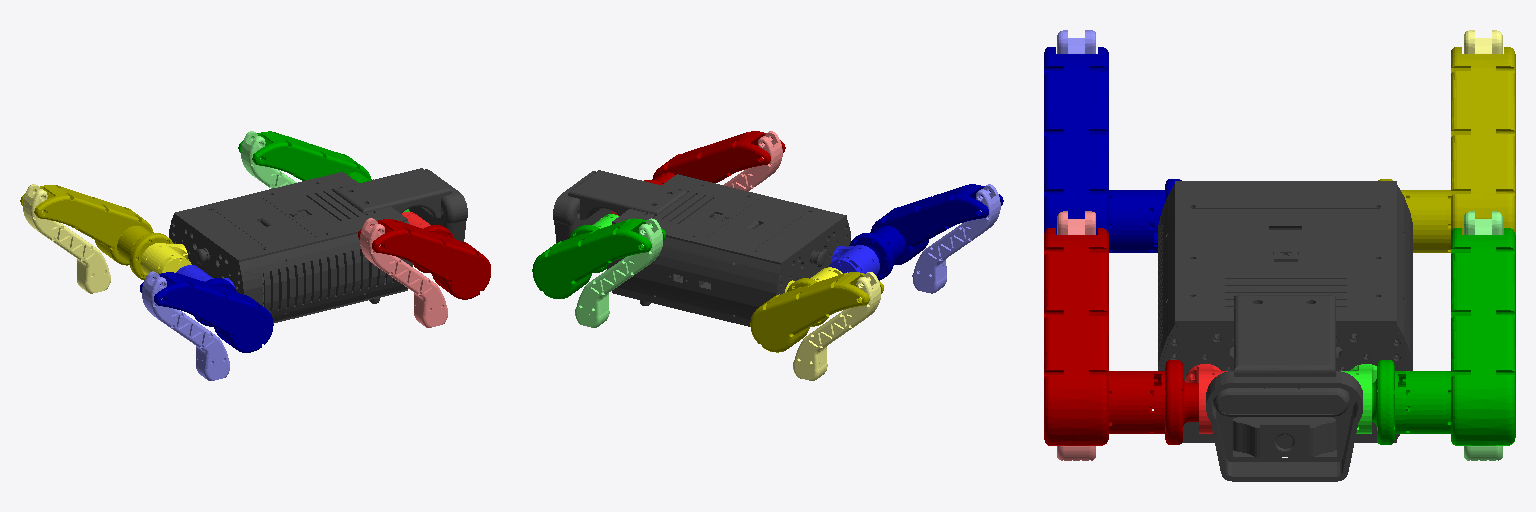
robot.urdf — NXP_Jaguar:
<?xml version="1.0" ?>
<robot name="NXP_Jaguar">
  
  <link name="dummy_link"/>
  
  <!-- </link> -->
  
  <link name="base_link">
    
    <visual>
      
      <origin rpy="0 0 0" xyz="0 0 0"/>
      
      <geometry>
        
        <mesh filename="../meshes/Base_body.STL"/>
        
      </geometry>
      
      <!-- <geometry>
        <box size="0.5 0.3 0.1"/>
      </geometry> -->
      
      <material name="">
        
        <color rgba="0.3 0.3 0.3 1"/>
        
      </material>
      
    </visual>
    
    <collision>
      
      <origin rpy="0 0 0" xyz="0 0 0"/>
      
      <geometry>
        
        <mesh filename="../meshes/Base_body.STL"/>
        
      </geometry>
      
    </collision>
    
    <inertial>
      
      <origin rpy="0 0 0" xyz="0.055662 0.002236 0.087783"/>
      
      <mass value="5.200000"/>
      
      <!-- <mass value="10.200000" /> -->
      
      <inertia ixx="0.033984" ixy="0.000000" ixz="0.000000" iyy="0.101093" iyz="-0.000198" izz="0.117161"/>
      
    </inertial>
    
  </link>
  
  <joint name="dummy_joint" type="fixed">
    
    <origin rpy="0 0 0" xyz="0.0 0.0 0.0"/>
    
    <parent link="dummy_link"/>
    
    <child link="base_link"/>
    
  </joint>
  
  <link name="Fr_coxa_link">
    
    <visual>
      
      <origin rpy="0 0 0" xyz="0 0 0"/>
      
      <geometry>
        
        <mesh filename="../meshes/Fr_coxa_roll.STL"/>
        
      </geometry>
      
      <material name="">
        
        <color rgba="1.0 0.2 0.2 1"/>
        
      </material>
      
    </visual>
    
    <collision>
      
      <origin rpy="0 0 0" xyz="0 0 0"/>
      
      <geometry>
        
        <mesh filename="../meshes/Fr_coxa_roll.STL"/>
        
      </geometry>
      
    </collision>
    
    <inertial>
      
      <origin rpy="0 0 0" xyz=" -0.040750 -0.019750 0.000000"/>
      
      <mass value="0.353000"/>
      
      <inertia ixx="0.000259" ixy="0.000000" ixz="0.000000" iyy="0.000291" iyz="0.000000" izz="0.000359"/>
      
    </inertial>
    
  </link>
  
  <!-- SEBELUMNYA: axis xyz="-1 0 0" , limit lower="-0.40" upper="0.40" -> DIUBAH MIRIP A1 (titik 0 & arah gerak simetris) -->
  
  <joint name="Fr_roll_joint" type="revolute">
    
    <origin rpy="0 0 0" xyz="0.14 -0.0722 0.0755"/>
    
    <parent link="base_link"/>
    
    <child link="Fr_coxa_link"/>
    
    <axis xyz="1 0 0"/>
    
    <!-- <limit lower="1.45" upper="0.4" effort="14" velocity="20" /> -->
    
    <limit effort="14" lower="-0.40" upper="0.40" velocity="20"/>
    
  </joint>
  
  <link name="Fr_thigh_link">
    
    <visual>
      
      <origin rpy="0 0 0" xyz="0 0 0"/>
      
      <geometry>
        
        <mesh filename="../meshes/Fr_hip_pitch.STL"/>
        
      </geometry>
      
      <material name="">
        
        <color rgba="0.7 0.0 0.0 1"/>
        
      </material>
      
    </visual>
    
    <collision>
      
      <origin rpy="0 0 0" xyz="0 0 0"/>
      
      <geometry>
        
        <mesh filename="../meshes/Fr_hip_pitch.STL"/>
        
      </geometry>
      
    </collision>
    
    <inertial>
      
      <origin rpy="0 0 0" xyz="-0.035579 -0.089273 0.026371"/>
      
      <mass value="0.6500000"/>
      
      <inertia ixx="0.002081" ixy="0.000000" ixz="0.000982" iyy="0.002555" iyz="0.000000" izz="0.002809"/>
      
    </inertial>
    
  </link>
  
  <!-- Arah gerak Fr_hip_pitch_joint sudah mirip A1 (0 1 0) -->
  
  <joint name="Fr_hip_pitch_joint" type="revolute">
    
    <origin rpy="0 0 0" xyz="0.053 -0.005 0.000"/>
    
    <parent link="Fr_coxa_link"/>
    
    <child link="Fr_thigh_link"/>
    
    <axis xyz="0 1 0"/>
    
    <limit effort="14" lower="-3.14" upper="0.00" velocity="20"/>
    
  </joint>
  
  <link name="Fr_tibia_link">
    
    <visual>
      
      <origin rpy="0 0 0" xyz="0 0 0"/>
      
      <geometry>
        
        <mesh filename="../meshes/Fr_tibia_pitch.STL"/>
        
      </geometry>
      
      <material name="">
        
        <color rgba="1.0 0.6 0.6 1"/>
        
      </material>
      
    </visual>
    
    <collision>
      <origin rpy="0 0.55 0" xyz="0.04 -0.0175 -0.06"/>
      <geometry>
        <box size="0.02 0.02 0.12"/>
      </geometry>
    </collision>
    
    <inertial>
      
      <origin rpy="0 0 0" xyz="0.060866 -0.017421 -0.080173"/>
      
      <mass value="0.1800000"/>
      
      <inertia ixx="0.000451" ixy="0.000000" ixz="0.000331" iyy="0.000726" iyz="0.000000" izz="0.000309"/>
      
    </inertial>
    
  </link>
  
  <!-- Arah gerak Fr_knee_joint sudah mirip A1 (0 1 0) -->
  
  <joint name="Fr_knee_joint" type="revolute">
    
    <origin rpy="0 0 0" xyz="-0.157 -0.0935 0.088"/>
    
    <parent link="Fr_thigh_link"/>
    
    <child link="Fr_tibia_link"/>
    
    <axis xyz="0 1 0"/>
    
    <limit effort="14" lower="-0.10" upper="2.80" velocity="20"/>
    
  </joint>
  
  <link name="Fl_coxa_link">
    
    <visual>
      
      <origin rpy="0 0 0" xyz="0 0 0"/>
      
      <geometry>
        
        <mesh filename="../meshes/Fl_coxa_roll.STL"/>
        
      </geometry>
      
      <material name="">
        
        <color rgba="0.2 1.0 0.2 1"/>
        
      </material>
      
    </visual>
    
    <collision>
      
      <origin rpy="0 0 0" xyz="0 0 0"/>
      
      <geometry>
        
        <mesh filename="../meshes/Fl_coxa_roll.STL"/>
        
      </geometry>
      
    </collision>
    
    <inertial>
      
      <origin rpy="0 0 0" xyz=" -0.040750 -0.019750 0.000000"/>
      
      <mass value="0.353000"/>
      
      <inertia ixx="0.000200" ixy="0.000000" ixz="0.000000" iyy="0.000275" iyz="0.000000" izz="0.000309"/>
      
    </inertial>
    
  </link>
  
  <!-- SEBELUMNYA: axis xyz="-1 0 0" , limit lower="-0.40" upper="0.40" -> DIUBAH MIRIP A1 (titik 0 & arah gerak simetris) -->
  
  <joint name="Fl_roll_joint" type="revolute">
    
    <origin rpy="0 0 0" xyz="0.14 0.0722 0.0755"/>
    
    <parent link="base_link"/>
    
    <child link="Fl_coxa_link"/>
    
    <axis xyz="1 0 0"/>
    
    <!-- <limit lower="1.45" upper="0.4" effort="14" velocity="20" /> -->
    
    <limit effort="14" lower="-0.40" upper="0.40" velocity="20"/>
    
  </joint>
  
  <link name="Fl_thigh_link">
    
    <visual>
      
      <origin rpy="0 0 0" xyz="0 0 0"/>
      
      <geometry>
        
        <mesh filename="../meshes/Fl_hip_pitch.STL"/>
        
      </geometry>
      
      <material name="">
        
        <color rgba="0.0 0.7 0.0 1"/>
        
      </material>
      
    </visual>
    
    <collision>
      
      <origin rpy="0 0 0" xyz="0 0 0"/>
      
      <geometry>
        
        <mesh filename="../meshes/Fl_hip_pitch.STL"/>
        
      </geometry>
      
    </collision>
    
    <inertial>
      
      <origin rpy="0 0 0" xyz="-0.035334 0.088860 0.026193"/>
      
      <mass value="0.6500000"/>
      
      <inertia ixx="0.002061" ixy="0.000000" ixz="0.000982" iyy="0.002547" iyz="0.000000" izz="0.002786"/>
      
    </inertial>
    
  </link>
  
  <!-- SEBELUMNYA: axis xyz="0 -1 0" , limit lower="-3.14" upper="0.00" -> DIUBAH MIRIP A1 (titik 0 & arah gerak simetris) -->
  
  <joint name="Fl_hip_pitch_joint" type="revolute">
    
    <origin rpy="0 0 0" xyz="0.053 -0.005 0.000"/>
    
    <parent link="Fl_coxa_link"/>
    
    <child link="Fl_thigh_link"/>
    
    <axis xyz="0 1 0"/>
    
    <limit effort="14" lower="-3.14" upper="0.00" velocity="20"/>
    
  </joint>
  
  <link name="Fl_tibia_link">
    
    <visual>
      
      <origin rpy="0 0 0" xyz="0 0 0"/>
      
      <geometry>
        
        <mesh filename="../meshes/Fl_tibia_pitch.STL"/>
        
      </geometry>
      
      <material name="">
        
        <color rgba="0.6 1.0 0.6 1"/>
        
      </material>
      
    </visual>
    
    <collision>
      <origin rpy="0 0.55 0" xyz="0.04 0.0175 -0.06"/>
      <geometry>
        <box size="0.02 0.02 0.12"/>
      </geometry>
    </collision>
    
    <inertial>
      
      <origin rpy="0 0 0" xyz="0.060954 0.017516 -0.080316"/>
      
      <mass value="0.1800000"/>
      
      <inertia ixx="0.000450" ixy="0.000000" ixz="0.000331" iyy="0.000726" iyz="0.000000" izz="0.000309"/>
      
    </inertial>
    
  </link>
  
  <!-- SEBELUMNYA: axis xyz="0 -1 0" , limit lower="-2.80" upper="0.10" -> DIUBAH MIRIP A1 (titik 0 & arah gerak simetris) -->
  
  <joint name="Fl_knee_joint" type="revolute">
    
    <origin rpy="0 0 0" xyz="-0.157 0.0935 0.088"/>
    
    <parent link="Fl_thigh_link"/>
    
    <child link="Fl_tibia_link"/>
    
    <axis xyz="0 1 0"/>
    
    <limit effort="14" lower="-0.10" upper="2.80" velocity="20"/>
    
  </joint>
  
  <link name="Br_coxa_link">
    
    <visual>
      
      <origin rpy="0 0 0" xyz="0 0 0"/>
      
      <geometry>
        
        <mesh filename="../meshes/Br_coxa_roll.STL"/>
        
      </geometry>
      
      <material name="">
        
        <color rgba="0.2 0.2 1.0 1"/>
        
      </material>
      
    </visual>
    
    <collision>
      
      <origin rpy="0 0 0" xyz="0 0 0"/>
      
      <geometry>
        
        <mesh filename="../meshes/Br_coxa_roll.STL"/>
        
      </geometry>
      
    </collision>
    
    <inertial>
      
      <origin rpy="0 0 0" xyz="-0.042480 0.013241 -0.000079"/>
      
      <mass value="0.353000"/>
      
      <inertia ixx="0.000175" ixy="0.000000" ixz="0.000000" iyy="0.000302" iyz="0.000000" izz="0.000311"/>
      
    </inertial>
    
  </link>
  
  <!-- SEBELUMNYA: axis xyz="-1 0 0" , limit lower="-0.40" upper="0.40" -> DIUBAH MIRIP A1 (titik 0 & arah gerak simetris) -->
  
  <joint name="Br_roll_joint" type="revolute">
    
    <origin rpy="0 0 0" xyz="-0.14 -0.0722 0.0755"/>
    
    <parent link="base_link"/>
    
    <child link="Br_coxa_link"/>
    
    <axis xyz="1 0 0"/>
    
    <!-- <limit lower="1.45" upper="0.4" effort="14" velocity="20" /> -->
    
    <limit effort="14" lower="-0.40" upper="0.40" velocity="20"/>
    
  </joint>
  
  <link name="Br_thigh_link">
    
    <visual>
      
      <origin rpy="0 0 0" xyz="0 0 0"/>
      
      <geometry>
        
        <mesh filename="../meshes/Br_hip_pitch.STL"/>
        
      </geometry>
      
      <material name="">
        
        <color rgba="0.0 0.0 0.7 1"/>
        
      </material>
      
    </visual>
    
    <collision>
      
      <origin rpy="0 0 0" xyz="0 0 0"/>
      
      <geometry>
        
        <mesh filename="../meshes/Br_hip_pitch.STL"/>
        
      </geometry>
      
    </collision>
    
    <inertial>
      
      <origin rpy="0 0 0" xyz="-0.035579 -0.089273 0.026371"/>
      
      <mass value="0.6500000"/>
      
      <inertia ixx="0.002070" ixy="0.000000" ixz="0.000977" iyy="0.002545" iyz="0.000000" izz="0.002795"/>
      
    </inertial>
    
  </link>
  
  <!-- Arah gerak Br_hip_pitch_joint sudah mirip A1 (0 1 0) -->
  
  <joint name="Br_hip_pitch_joint" type="revolute">
    
    <origin rpy="0 0 0" xyz="-0.053 -0.005 0.000"/>
    
    <parent link="Br_coxa_link"/>
    
    <child link="Br_thigh_link"/>
    
    <axis xyz="0 1 0"/>
    
    <limit effort="14" lower="-3.14" upper="0.00" velocity="20"/>
    
  </joint>
  
  <link name="Br_tibia_link">
    
    <visual>
      
      <origin rpy="0 0 0" xyz="0 0 0"/>
      
      <geometry>
        
        <mesh filename="../meshes/Br_tibia_pitch.STL"/>
        
      </geometry>
      
      <material name="">
        
        <color rgba="0.6 0.6 1.0 1"/>
        
      </material>
      
    </visual>
    
    <collision>
      <origin rpy="0 0.55 0" xyz="0.04 -0.0175 -0.06"/>
      <geometry>
        <box size="0.02 0.02 0.12"/>
      </geometry>
    </collision>
    
    <inertial>
      
      <origin rpy="0 0 0" xyz="0.060866 -0.017421 -0.080173"/>
      
      <mass value="0.1800000"/>
      
      <inertia ixx="0.000451" ixy="0.000000" ixz="0.000331" iyy="0.000726" iyz="0.000000" izz="0.000309"/>
      
    </inertial>
    
  </link>
  
  <!-- Arah gerak Br_knee_joint sudah mirip A1 (0 1 0) -->
  
  <joint name="Br_knee_joint" type="revolute">
    
    <origin rpy="0 0 0" xyz="-0.157 -0.0935 0.088"/>
    
    <parent link="Br_thigh_link"/>
    
    <child link="Br_tibia_link"/>
    
    <axis xyz="0 1 0"/>
    
    <limit effort="14" lower="-0.10" upper="2.80" velocity="20"/>
    
  </joint>
  
  <link name="Bl_coxa_link">
    
    <visual>
      
      <origin rpy="0 0 0" xyz="0 0 0"/>
      
      <geometry>
        
        <mesh filename="../meshes/Bl_coxa_roll.STL"/>
        
      </geometry>
      
      <material name="">
        
        <color rgba="1.0 1.0 0.2 1"/>
        
      </material>
      
    </visual>
    
    <collision>
      
      <origin rpy="0 0 0" xyz="0 0 0"/>
      
      <geometry>
        
        <mesh filename="../meshes/Bl_coxa_roll.STL"/>
        
      </geometry>
      
    </collision>
    
    <inertial>
      
      <origin rpy="0 0 0" xyz="-0.042207 -0.013241 0.000079"/>
      
      <mass value="0.353000"/>
      
      <inertia ixx="0.000200" ixy="0.000000" ixz="0.000000" iyy="0.000275" iyz="0.000000" izz="0.000309"/>
      
    </inertial>
    
  </link>
  
  <!-- SEBELUMNYA: axis xyz="-1 0 0" , limit lower="-0.40" upper="0.40" -> DIUBAH MIRIP A1 (titik 0 & arah gerak simetris) -->
  
  <joint name="Bl_roll_joint" type="revolute">
    
    <origin rpy="0 0 0" xyz="-0.14 0.0722 0.0755"/>
    
    <parent link="base_link"/>
    
    <child link="Bl_coxa_link"/>
    
    <axis xyz="1 0 0"/>
    
    <!-- <limit lower="1.45" upper="0.4" effort="14" velocity="20" /> -->
    
    <limit effort="14" lower="-0.40" upper="0.40" velocity="20"/>
    
  </joint>
  
  <link name="Bl_thigh_link">
    
    <visual>
      
      <origin rpy="0 0 0" xyz="0 0 0"/>
      
      <geometry>
        
        <mesh filename="../meshes/Bl_hip_pitch.STL"/>
        
      </geometry>
      
      <material name="">
        
        <color rgba="0.7 0.7 0.0 1"/>
        
      </material>
      
    </visual>
    
    <collision>
      
      <origin rpy="0 0 0" xyz="0 0 0"/>
      
      <geometry>
        
        <mesh filename="../meshes/Bl_hip_pitch.STL"/>
        
      </geometry>
      
    </collision>
    
    <inertial>
      
      <origin rpy="0 0 0" xyz="-0.035334 0.088860 0.026193"/>
      
      <mass value="0.6500000"/>
      
      <inertia ixx="0.002061" ixy="0.000000" ixz="0.000982" iyy="0.002547" iyz="0.000000" izz="0.002786"/>
      
    </inertial>
    
  </link>
  
  <!-- SEBELUMNYA: axis xyz="0 -1 0" , limit lower="-3.14" upper="0.00" -> DIUBAH MIRIP A1 (titik 0 & arah gerak simetris) -->
  
  <joint name="Bl_hip_pitch_joint" type="revolute">
    
    <origin rpy="0 0 0" xyz="-0.053 -0.005 0.000"/>
    
    <parent link="Bl_coxa_link"/>
    
    <child link="Bl_thigh_link"/>
    
    <axis xyz="0 1 0"/>
    
    <limit effort="14" lower="-3.14" upper="0.00" velocity="20"/>
    
  </joint>
  
  <link name="Bl_tibia_link">
    
    <visual>
      
      <origin rpy="0 0 0" xyz="0 0 0"/>
      
      <geometry>
        
        <mesh filename="../meshes/Bl_tibia_pitch.STL"/>
        
      </geometry>
      
      <material name="">
        
        <color rgba="1.0 1.0 0.6 1"/>
        
      </material>
      
    </visual>
    
    <collision>
      <origin rpy="0 0.55 0" xyz="0.04 0.0175 -0.06"/>
      <geometry>
        <box size="0.02 0.02 0.12"/>
      </geometry>
    </collision>
    
    <inertial>
      
      <origin rpy="0 0 0" xyz="0.060954 0.017516 -0.080316"/>
      
      <mass value="0.1800000"/>
      
      <inertia ixx="0.000450" ixy="0.000000" ixz="0.000331" iyy="0.000726" iyz="0.000000" izz="0.000309"/>
      
    </inertial>
    
  </link>
  
  <!-- SEBELUMNYA: axis xyz="0 -1 0" , limit lower="-2.80" upper="0.10" -> DIUBAH MIRIP A1 (titik 0 & arah gerak simetris) -->
  
  <joint name="Bl_knee_joint" type="revolute">
    
    <origin rpy="0 0 0" xyz="-0.157 0.0935 0.088"/>
    
    <parent link="Bl_thigh_link"/>
    
    <child link="Bl_tibia_link"/>
    
    <axis xyz="0 1 0"/>
    
    <!-- <limit lower="0.00" upper="1.70" effort="14" velocity="20" /> -->
    
    <limit effort="14" lower="-0.10" upper="2.80" velocity="20"/>
    
  </joint>
  
  <link name="imu_link"/>
  
  <joint name="imu_joint" type="fixed">
    
    <parent link="base_link"/>
    
    <child link="imu_link"/>
    
    <origin rpy="3.141592653589793 0 0" xyz="0 0 0.1"/>
    
  </joint>
  
  <gazebo reference="imu_link">
    
    <sensor name="imu_sensor" type="imu">
      
      <always_on>true</always_on>
      
      <update_rate>100</update_rate>
      
      <visualize>true</visualize>
      
      <topic>imu</topic>
      
      <gz_frame_id>imu_link</gz_frame_id>
      
    </sensor>
    
  </gazebo>
  
  <gazebo>
    
    <plugin filename="gz-sim-imu-system" name="gz::sim::systems::Imu"/>
    
  </gazebo>
  
  <!-- <gazebo>
    <plugin filename="ign_ros2_control-system" name="ign_ros2_control::IgnitionROS2ControlPlugin"> <parameters>/home/shullgtx/TEEP/quadruped/NXP-Jaguar/nxp_jaguar_v3/nxp_jaguar/src/nxp_jaguar_descriptions/config/control.yaml</parameters>
    </plugin>
  </gazebo> -->
  
  <gazebo>
    
    <plugin filename="ign_ros2_control-system" name="ign_ros2_control::IgnitionROS2ControlPlugin">
      
      <parameters>/home/shullgtx/TEEP/quadruped/NXP-Jaguar/nxp_jaguar_v3/nxp_jaguar/src/nxp_jaguar_descriptions/config/control.yaml</parameters>
      
      <ros>
        
        <remapping>/position_controller/commands:=/position_controller/commands_translated</remapping>
        
      </ros>
      
    </plugin>
    
  </gazebo>
  
  <ros2_control name="gz_ros2_control" type="system">
    
    <hardware>
      
      <plugin>gz_ros2_control/GazeboSimSystem</plugin>
      
    </hardware>
    
    <joint name="Fr_roll_joint">
      
      <command_interface name="position"/>
      
      <state_interface name="position"/>
      
      <state_interface name="velocity"/>
      
    </joint>
    
    <joint name="Fr_hip_pitch_joint">
      
      <command_interface name="position"/>
      
      <state_interface name="position"/>
      
      <state_interface name="velocity"/>
      
    </joint>
    
    <joint name="Fr_knee_joint">
      
      <command_interface name="position"/>
      
      <state_interface name="position"/>
      
      <state_interface name="velocity"/>
      
    </joint>
    
    <joint name="Br_roll_joint">
      
      <command_interface name="position"/>
      
      <state_interface name="position"/>
      
      <state_interface name="velocity"/>
      
    </joint>
    
    <joint name="Br_hip_pitch_joint">
      
      <command_interface name="position"/>
      
      <state_interface name="position"/>
      
      <state_interface name="velocity"/>
      
    </joint>
    
    <joint name="Br_knee_joint">
      
      <command_interface name="position"/>
      
      <state_interface name="position"/>
      
      <state_interface name="velocity"/>
      
    </joint>
    
    <joint name="Fl_roll_joint">
      
      <command_interface name="position"/>
      
      <state_interface name="position"/>
      
      <state_interface name="velocity"/>
      
    </joint>
    
    <joint name="Fl_hip_pitch_joint">
      
      <command_interface name="position"/>
      
      <state_interface name="position"/>
      
      <state_interface name="velocity"/>
      
    </joint>
    
    <joint name="Fl_knee_joint">
      
      <command_interface name="position"/>
      
      <state_interface name="position"/>
      
      <state_interface name="velocity"/>
      
    </joint>
    
    <joint name="Bl_roll_joint">
      
      <command_interface name="position"/>
      
      <state_interface name="position"/>
      
      <state_interface name="velocity"/>
      
    </joint>
    
    <joint name="Bl_hip_pitch_joint">
      
      <command_interface name="position"/>
      
      <state_interface name="position"/>
      
      <state_interface name="velocity"/>
      
    </joint>
    
    <joint name="Bl_knee_joint">
      
      <command_interface name="position"/>
      
      <state_interface name="position"/>
      
      <state_interface name="velocity"/>
      
    </joint>
    
  </ros2_control>
  
  <!-- Authentic Distal Foot Pad (Exact CAD Foot Pad Extents, 100% Invisible) -->
  <joint name="Fr_foot_fixed" type="fixed" dont_collapse="true">
    <origin rpy="0 0 0" xyz="0.1035 -0.0175 -0.1544"/>
    <parent link="Fr_tibia_link"/>
    <child link="Fr_foot"/>
  </joint>
  <link name="Fr_foot">
    <collision>
      <origin rpy="0 0 0" xyz="0 0 0"/>
      <geometry>
        <box size="0.046 0.035 0.018"/>
      </geometry>
    </collision>
    <inertial>
      <mass value="0.035"/>
      <inertia ixx="5.0e-06" ixy="0.0" ixz="0.0" iyy="5.0e-06" iyz="0.0" izz="5.0e-06"/>
    </inertial>
  </link>

  <!-- Authentic Distal Foot Pad (Exact CAD Foot Pad Extents, 100% Invisible) -->
  <joint name="Fl_foot_fixed" type="fixed" dont_collapse="true">
    <origin rpy="0 0 0" xyz="0.1035 0.0175 -0.1544"/>
    <parent link="Fl_tibia_link"/>
    <child link="Fl_foot"/>
  </joint>
  <link name="Fl_foot">
    <collision>
      <origin rpy="0 0 0" xyz="0 0 0"/>
      <geometry>
        <box size="0.046 0.035 0.018"/>
      </geometry>
    </collision>
    <inertial>
      <mass value="0.035"/>
      <inertia ixx="5.0e-06" ixy="0.0" ixz="0.0" iyy="5.0e-06" iyz="0.0" izz="5.0e-06"/>
    </inertial>
  </link>

  <!-- Authentic Distal Foot Pad (Exact CAD Foot Pad Extents, 100% Invisible) -->
  <joint name="Br_foot_fixed" type="fixed" dont_collapse="true">
    <origin rpy="0 0 0" xyz="0.1035 -0.0175 -0.1544"/>
    <parent link="Br_tibia_link"/>
    <child link="Br_foot"/>
  </joint>
  <link name="Br_foot">
    <collision>
      <origin rpy="0 0 0" xyz="0 0 0"/>
      <geometry>
        <box size="0.046 0.035 0.018"/>
      </geometry>
    </collision>
    <inertial>
      <mass value="0.035"/>
      <inertia ixx="5.0e-06" ixy="0.0" ixz="0.0" iyy="5.0e-06" iyz="0.0" izz="5.0e-06"/>
    </inertial>
  </link>

  <!-- Authentic Distal Foot Pad (Exact CAD Foot Pad Extents, 100% Invisible) -->
  <joint name="Bl_foot_fixed" type="fixed" dont_collapse="true">
    <origin rpy="0 0 0" xyz="0.1035 0.0175 -0.1544"/>
    <parent link="Bl_tibia_link"/>
    <child link="Bl_foot"/>
  </joint>
  <link name="Bl_foot">
    <collision>
      <origin rpy="0 0 0" xyz="0 0 0"/>
      <geometry>
        <box size="0.046 0.035 0.018"/>
      </geometry>
    </collision>
    <inertial>
      <mass value="0.035"/>
      <inertia ixx="5.0e-06" ixy="0.0" ixz="0.0" iyy="5.0e-06" iyz="0.0" izz="5.0e-06"/>
    </inertial>
  </link>

</robot>

--- What the picture shows (computed from the rendered views, not written in the file) ---
Views: 3 orthographic renders of the robot side by side, from view 1: azimuth 30°, elevation 25°; view 2: azimuth 150°, elevation 25°; view 3: azimuth 270°, elevation 25°.
Model NXP_Jaguar with 19 links and 18 joints (12 revolute, 6 fixed), rooted at dummy_link, posed all joints at 0.
Links seen in each view (by area): view 1: base_link, Bl_thigh_link, Br_thigh_link, Fr_thigh_link, Fl_thigh_link, Br_tibia_link, Fr_tibia_link, Bl_tibia_link, Bl_coxa_link, Fl_tibia_link; view 2: base_link, Br_thigh_link, Fl_thigh_link, Bl_thigh_link, Fr_thigh_link, Br_tibia_link, Bl_tibia_link, Fl_tibia_link, Fr_tibia_link, Br_coxa_link; view 3: base_link, Fr_thigh_link, Fl_thigh_link, Br_thigh_link, Bl_thigh_link, Fr_tibia_link, Fl_tibia_link, Fr_coxa_link, Fl_coxa_link, Br_tibia_link, Bl_tibia_link.
Link boxes in pixels (left/top/right/bottom): base_link: left=169, top=168, right=467, bottom=323; Bl_thigh_link: left=20, top=185, right=173, bottom=279; Br_thigh_link: left=140, top=272, right=273, bottom=352; Fr_thigh_link: left=358, top=219, right=490, bottom=299; Fl_thigh_link: left=238, top=131, right=373, bottom=182; Br_tibia_link: left=142, top=271, right=229, bottom=380; Fr_tibia_link: left=360, top=218, right=447, bottom=327; Bl_tibia_link: left=23, top=184, right=110, bottom=293; Bl_coxa_link: left=140, top=243, right=191, bottom=274; Fl_tibia_link: left=241, top=131, right=296, bottom=188; base_link: left=553, top=170, right=850, bottom=326; Br_thigh_link: left=849, top=184, right=1003, bottom=280; Fl_thigh_link: left=532, top=218, right=665, bottom=298; Bl_thigh_link: left=750, top=272, right=883, bottom=352; Fr_thigh_link: left=644, top=131, right=785, bottom=184; Br_tibia_link: left=912, top=184, right=1000, bottom=293; Bl_tibia_link: left=793, top=272, right=880, bottom=380; Fl_tibia_link: left=575, top=218, right=662, bottom=327; Fr_tibia_link: left=724, top=131, right=782, bottom=191; Br_coxa_link: left=829, top=245, right=879, bottom=275; base_link: left=1158, top=181, right=1412, bottom=481; Fr_thigh_link: left=1044, top=228, right=1198, bottom=445; Fl_thigh_link: left=1372, top=228, right=1515, bottom=445; Br_thigh_link: left=1044, top=47, right=1181, bottom=252; Bl_thigh_link: left=1378, top=47, right=1515, bottom=252; Fr_tibia_link: left=1057, top=211, right=1095, bottom=460; Fl_tibia_link: left=1464, top=211, right=1502, bottom=460; Fr_coxa_link: left=1186, top=364, right=1227, bottom=433; Fl_coxa_link: left=1341, top=364, right=1376, bottom=433; Br_tibia_link: left=1057, top=30, right=1095, bottom=53; Bl_tibia_link: left=1464, top=30, right=1502, bottom=53.
Size in the robot's own frame: 0.6362 by 0.4244 by 0.193 metres.
13 mesh visuals loaded from 13 distinct referenced files (13 binary STL).
